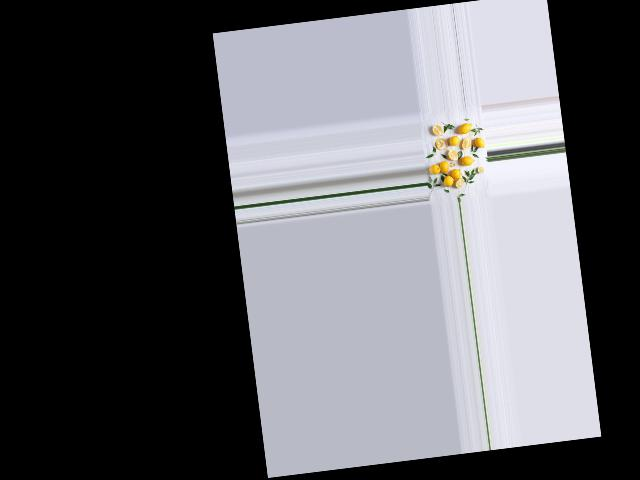lemon: (429, 160, 441, 176)
